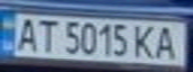0: (78, 20, 100, 56)
1: (96, 20, 115, 56)
5: (60, 19, 81, 55), (112, 21, 133, 57)
A: (151, 24, 184, 61), (12, 15, 42, 52)
K: (130, 22, 160, 60)
T: (33, 17, 60, 53)
